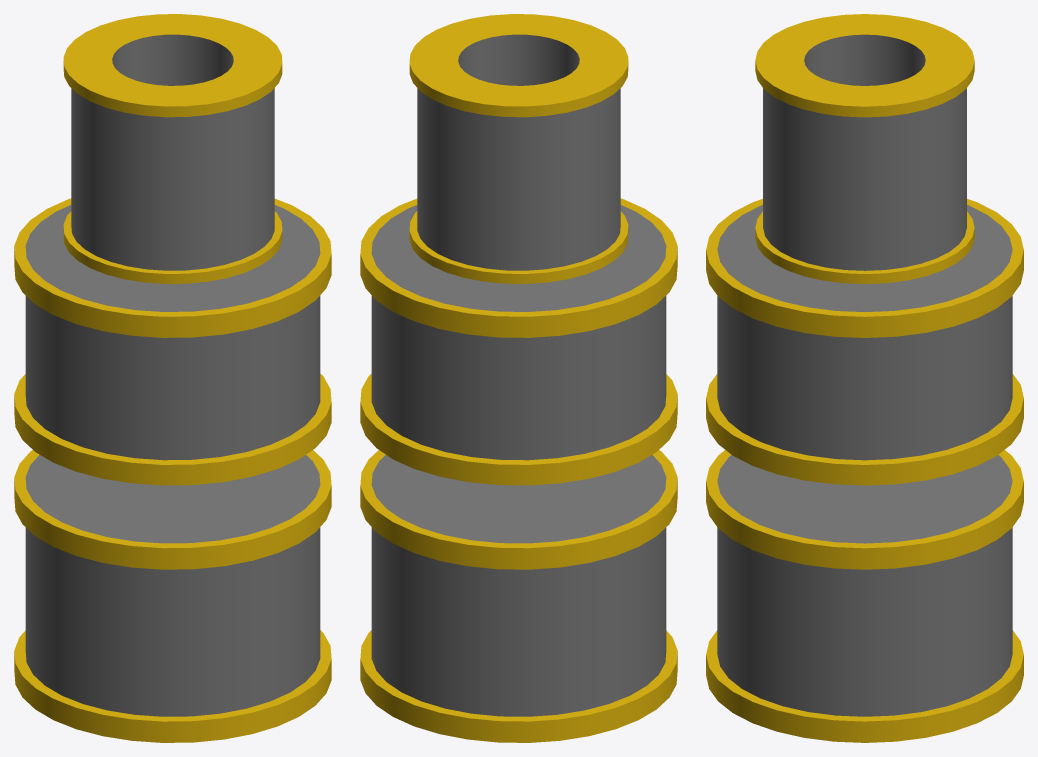
File: RippleDefender Health 2.fbx
The picture shows the model from 3 angles, left to right: view 1: azimuth 30°, elevation 25°; view 2: azimuth 150°, elevation 25°; view 3: azimuth 270°, elevation 25°; orthographic projection.
Visible parts, largest first — view 1: RippleDefender 2nd health upgrade; view 2: RippleDefender 2nd health upgrade; view 3: RippleDefender 2nd health upgrade.
Part boxes in pixels (left/top/right/bottom): RippleDefender 2nd health upgrade: left=14, top=14, right=331, bottom=742; RippleDefender 2nd health upgrade: left=360, top=14, right=677, bottom=742; RippleDefender 2nd health upgrade: left=706, top=14, right=1023, bottom=742.
Bounding box in the file's own units: 54.3 × 116 × 54.3.
